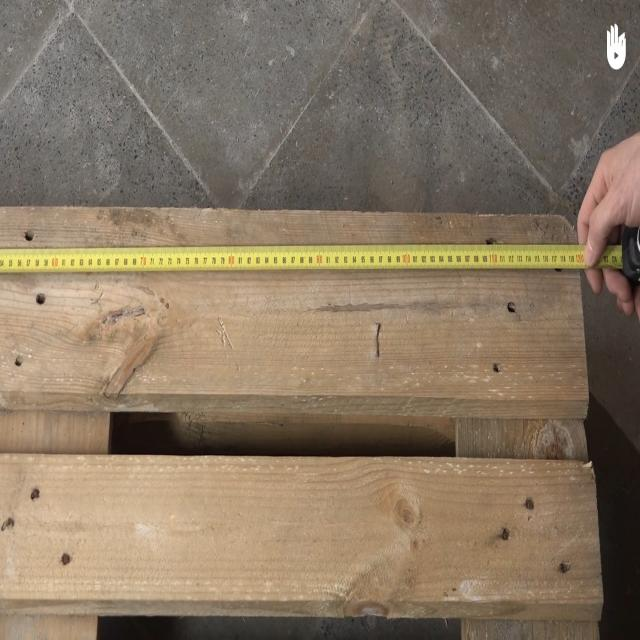Palette: (0, 200, 605, 640)
